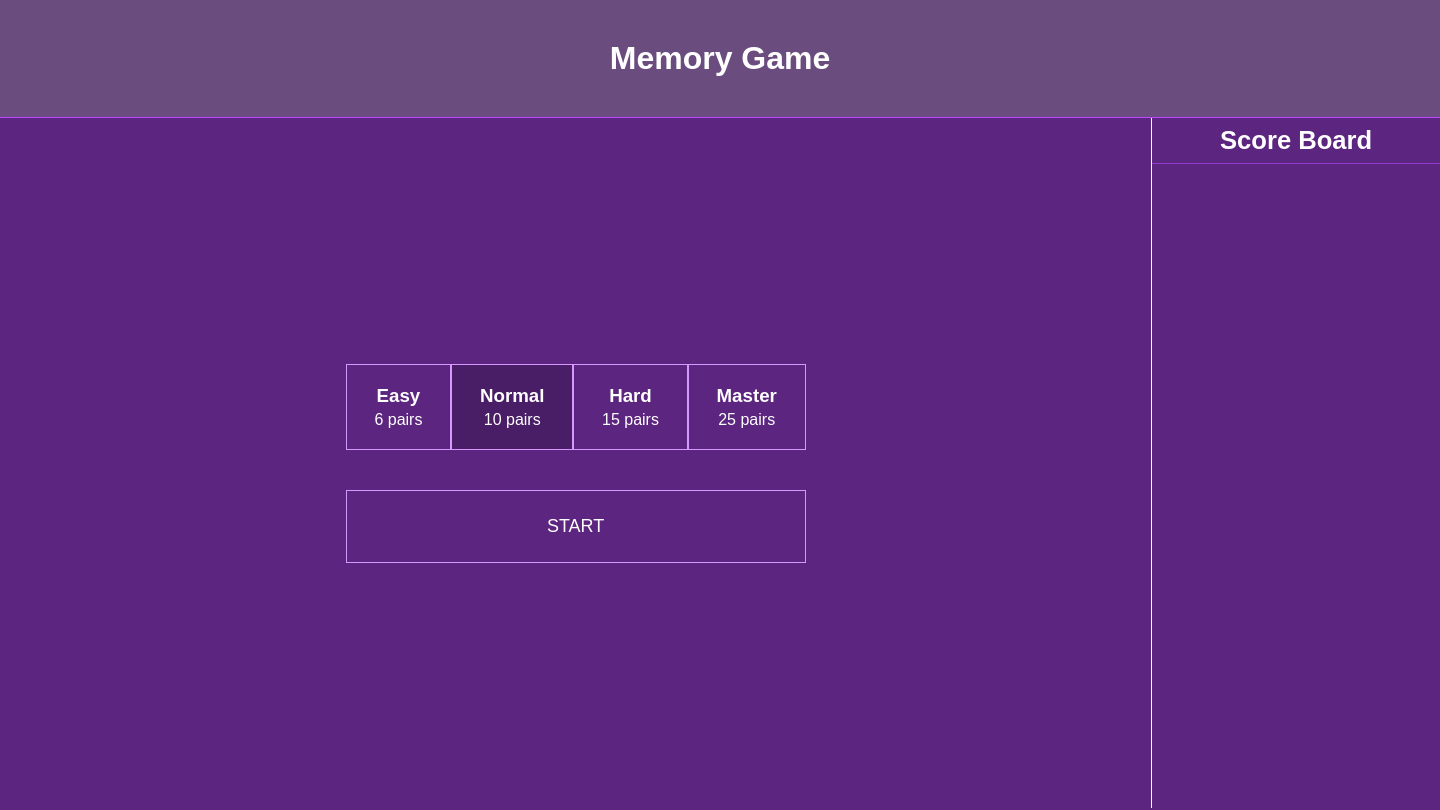
Test: Dashboard Page › should have 1 MessageDisplay if isFinished is true
What coordinates should you click on to do the following:
click the button with test id "start-btn"
I would click on:
 (576, 526)
Its box is left=539, top=510, right=612, bottom=542.
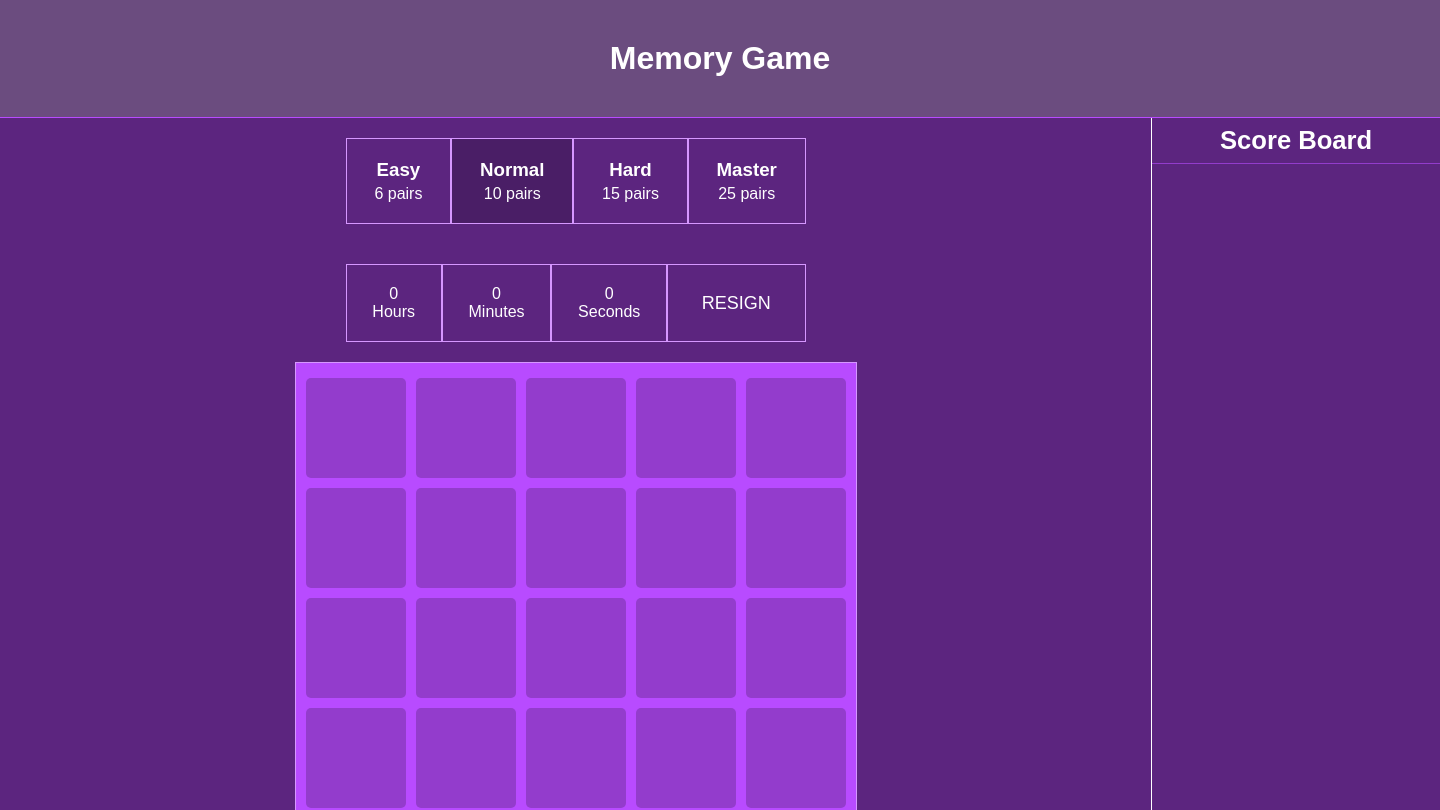
What coordinates should you click on to do the following:
click the button with test id "start-btn"
I would click on:
 (736, 303)
Its box is left=694, top=288, right=779, bottom=318.
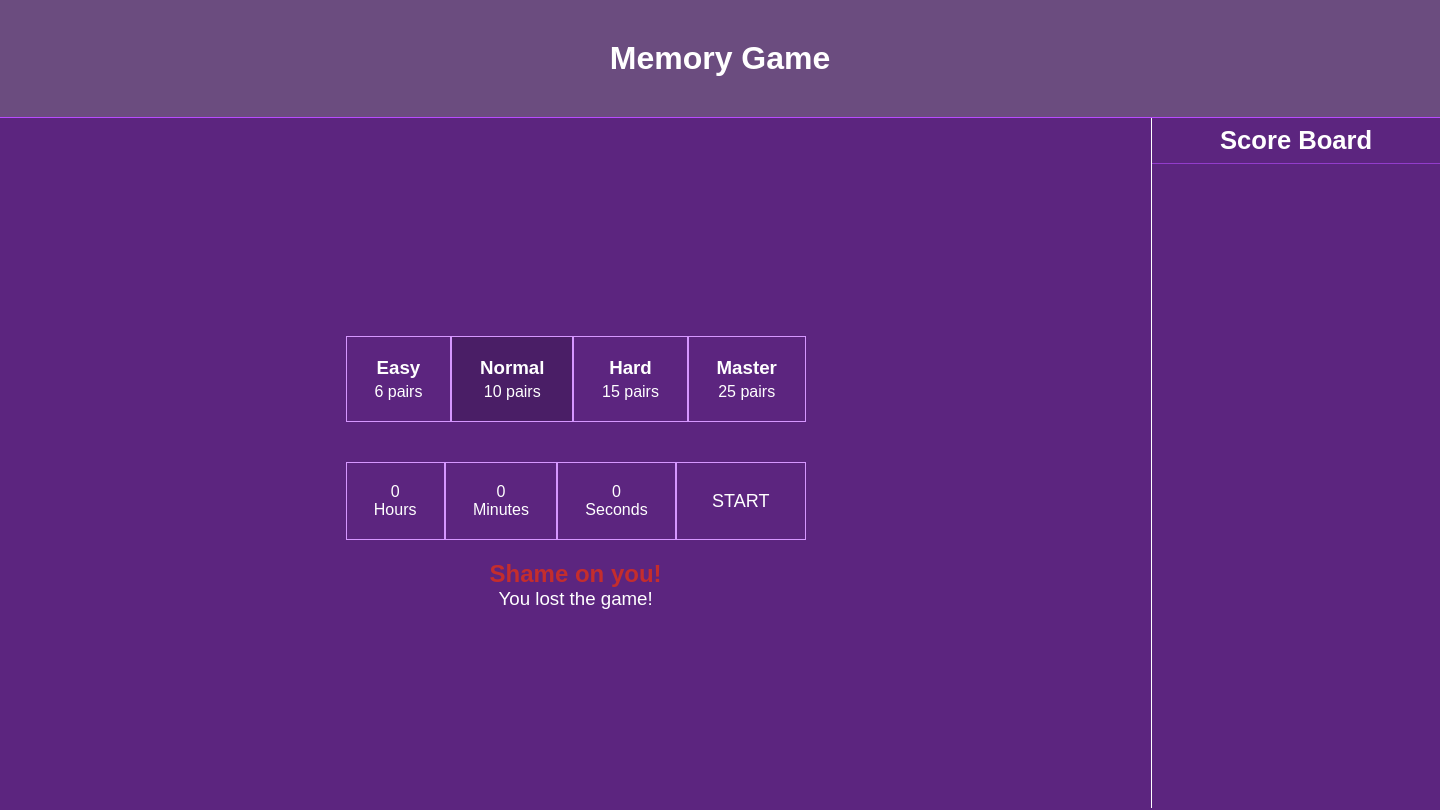
Check: the element with test id "message-container" is shown, box left=490, top=560, right=662, bottom=610
